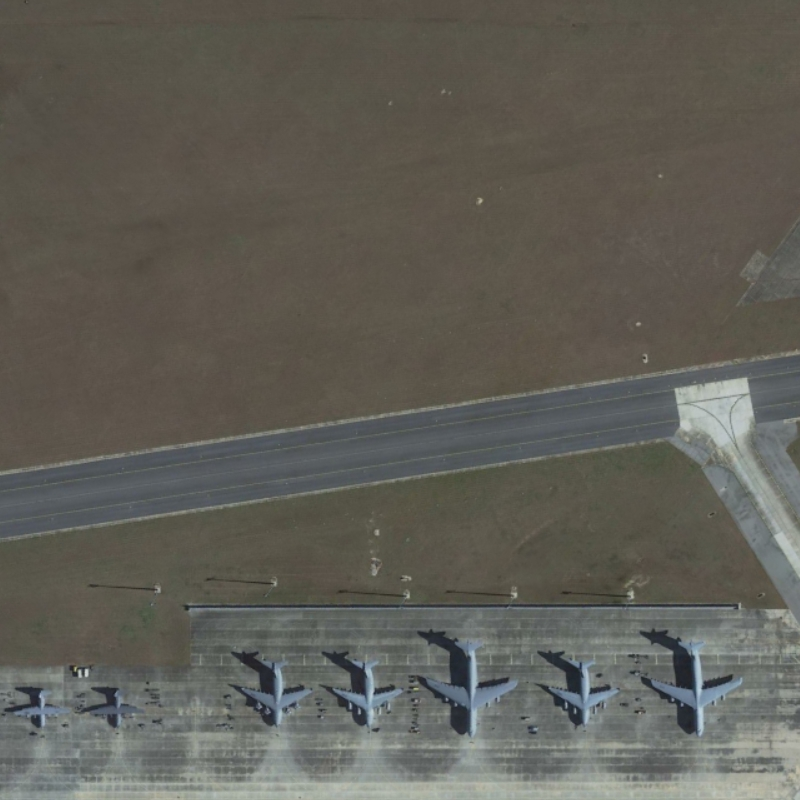A2: (87, 686, 146, 730), (12, 688, 72, 731)
A3: (329, 655, 408, 731), (237, 656, 315, 731), (545, 657, 623, 731)
A4: (643, 635, 746, 740), (421, 638, 522, 742)
